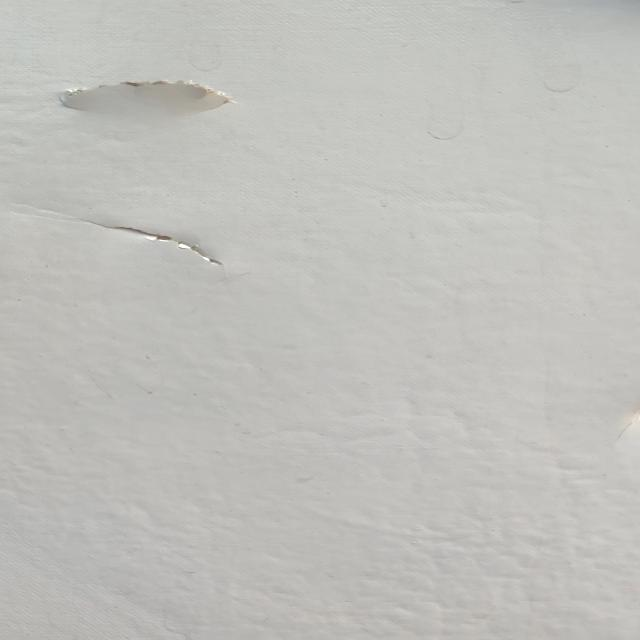Scratches: (61, 210, 272, 275), (44, 75, 270, 128)
